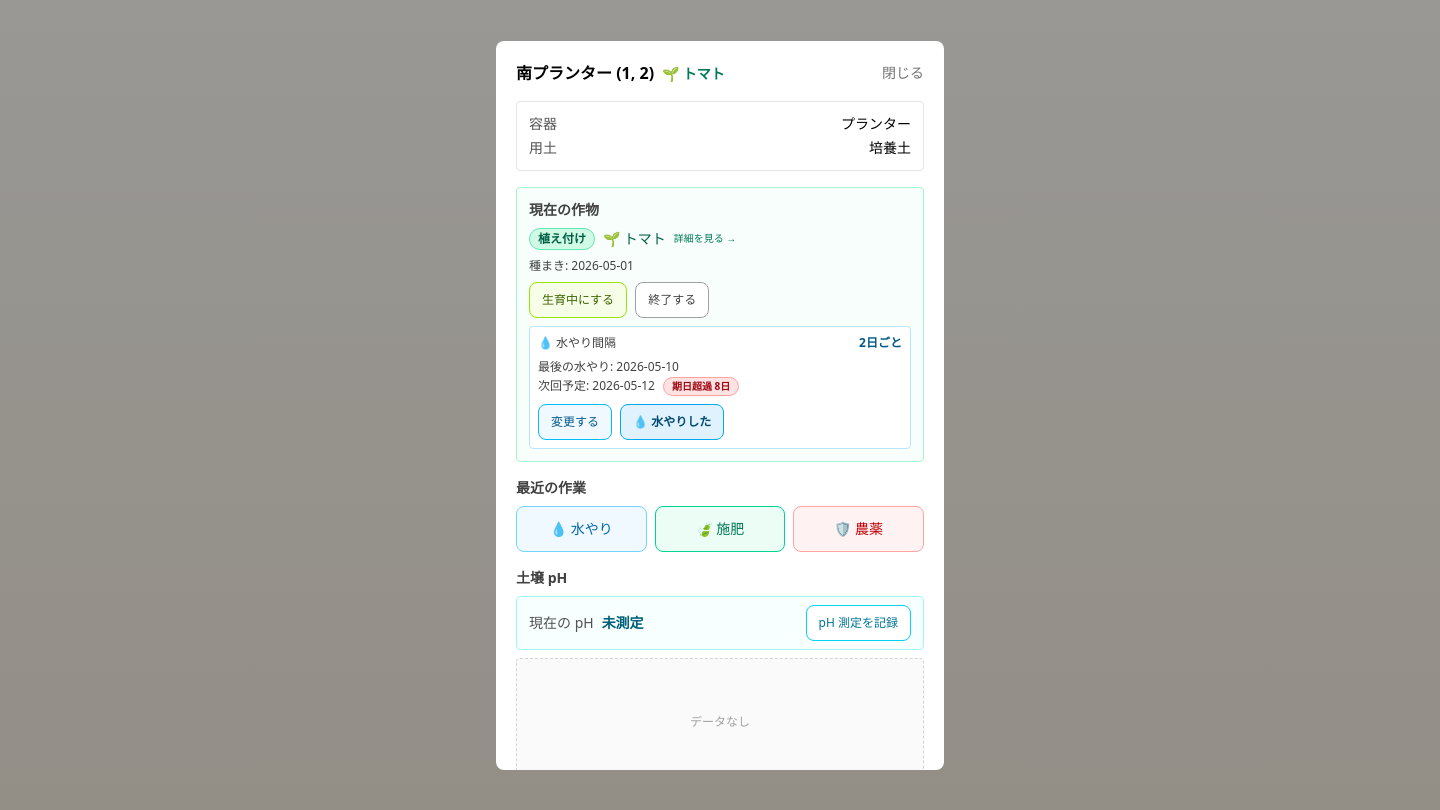
Test case: CellDetail › Issue #31: 設定済みで「💧 水やりした」を押すと POST /water が呼ばれて next_due_at が更新される
Check: the element with test id "fip-cell-detail-watering-panel" is shown, box [529,326,911,449]
Check: the text with test id "fip-cell-detail-watering-interval" reads "2日ごと", box [859,334,902,350]
Step 1. Click the button with test id "fip-cell-detail-watering-done" → {"x": 672, "y": 422}, box [620,404,724,440]
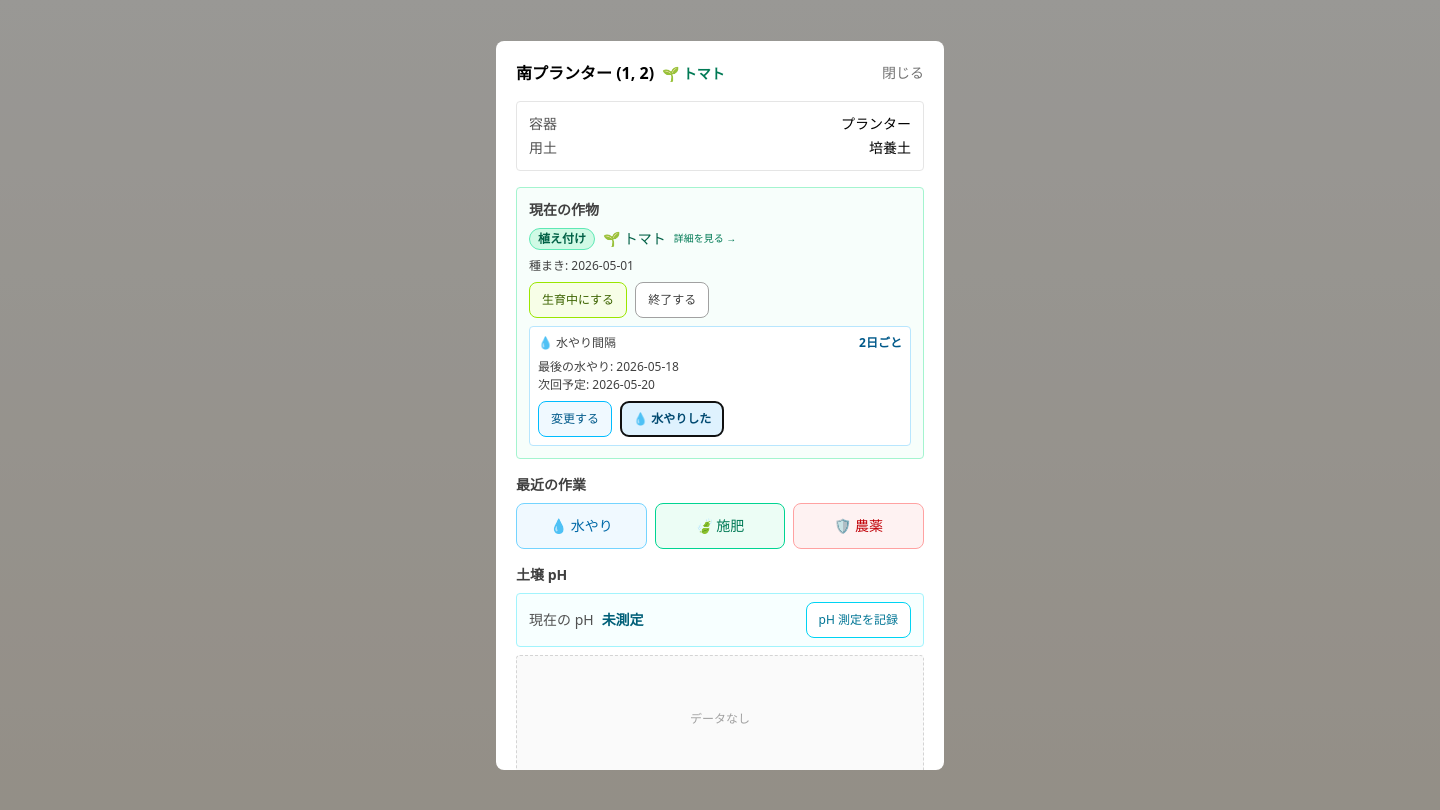
Check: the list item with test id "fip-cell-detail-watering-next" shows "2026-05-20", box [592,376,655,392]
